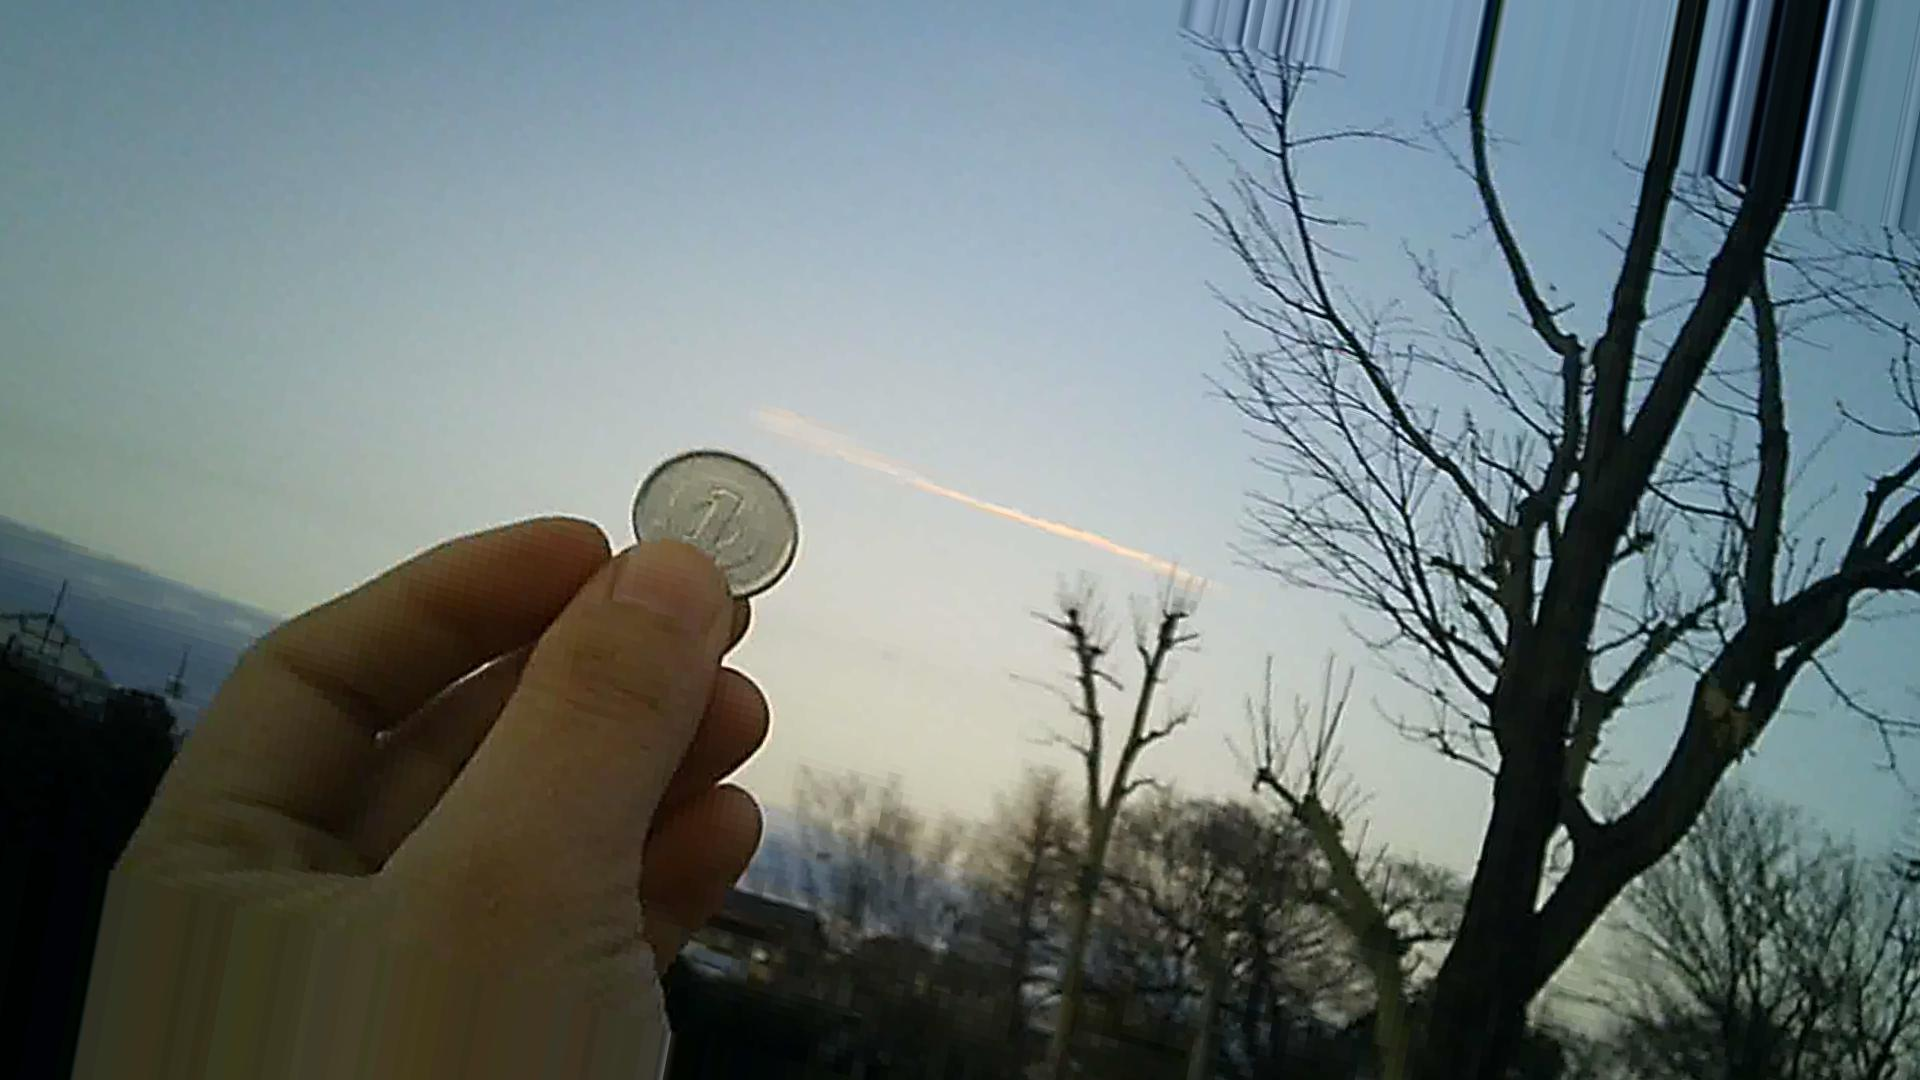1 Yen: (630, 440, 798, 585)
